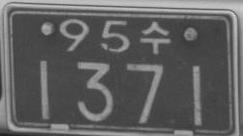1: (27, 60, 64, 119), (181, 65, 214, 126)
3: (76, 59, 113, 122)
5: (100, 20, 130, 53)
7: (125, 62, 165, 124)
9: (58, 17, 90, 51)
수: (140, 21, 171, 55)
